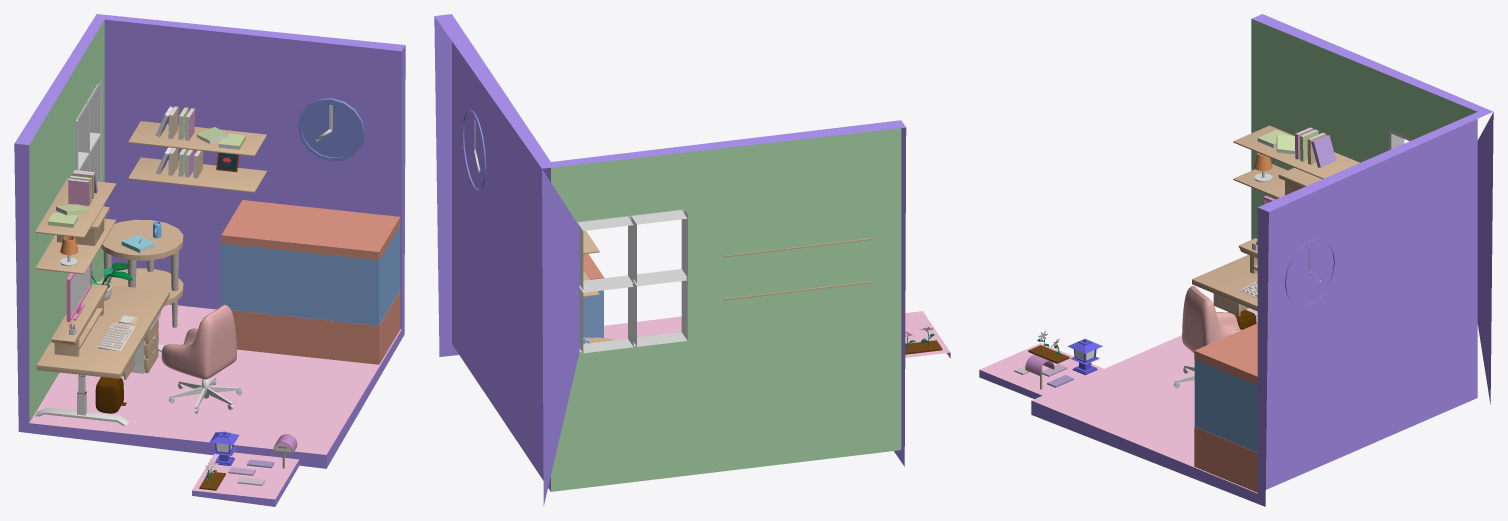
The model's file is room.glb.
The picture shows the model from 3 angles, left to right: view 1: azimuth 30°, elevation 25°; view 2: azimuth 150°, elevation 25°; view 3: azimuth 270°, elevation 25°; orthographic projection. The views are drawn at different scales.
Parts seen in each view (by area): view 1: wall, Cube.066, water, table top, Cube.065, wall.001, clock, table top.006, Cylinder.010, table top.007, windows, table top.002 (+11 smaller); view 2: wall, windows, wall.001, water; view 3: wall, Cube.066, water, wall.001, Cube.065, table top, table top.004, table top.003, Plane.004, table top.005, book6.
Boxes of the visible parts, x1,y1,x2,y2 form: wall: (14,14,405,468); Cube.066: (221,200,400,364); water: (221,226,399,325); table top: (36,285,169,378); Cube.065: (161,304,236,379); wall.001: (192,452,299,506); clock: (298,98,364,161); table top.006: (128,157,266,192); Cylinder.010: (100,219,183,260); table top.007: (128,121,266,156); windows: (76,79,101,181); table top.002: (51,284,107,356); wall: (434,14,906,505); windows: (576,209,687,353); wall.001: (905,311,950,358); water: (583,290,603,337); wall: (1031,14,1493,506); Cube.066: (1194,323,1359,492); water: (1194,359,1257,452); wall.001: (979,343,1103,398); Cube.065: (1182,286,1242,353); table top: (1192,255,1257,311); table top.004: (1233,125,1359,178); table top.003: (1233,164,1287,198); Plane.004: (1067,339,1102,375); table top.005: (1278,167,1321,195); book6: (1311,135,1336,167).
Bounding box in the file's own units: 42.25 × 29.98 × 46.34.
77 materials, 1 textured.
